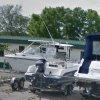Boat: (5, 31, 77, 90)
